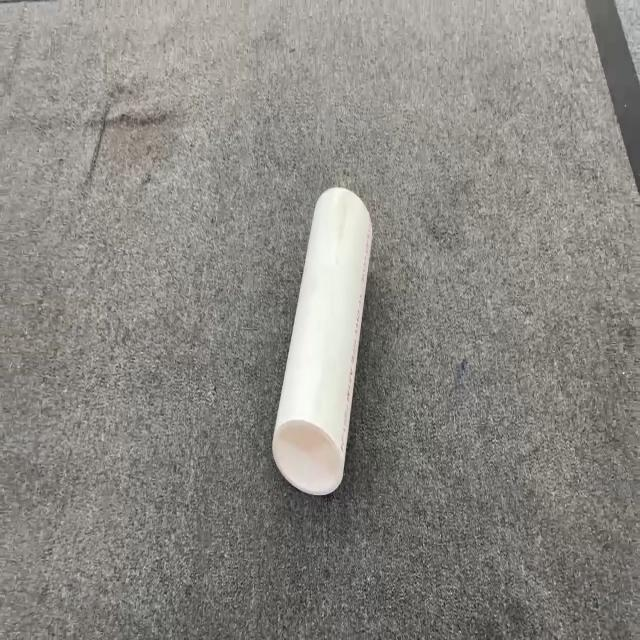coral: (271, 185, 373, 496)
